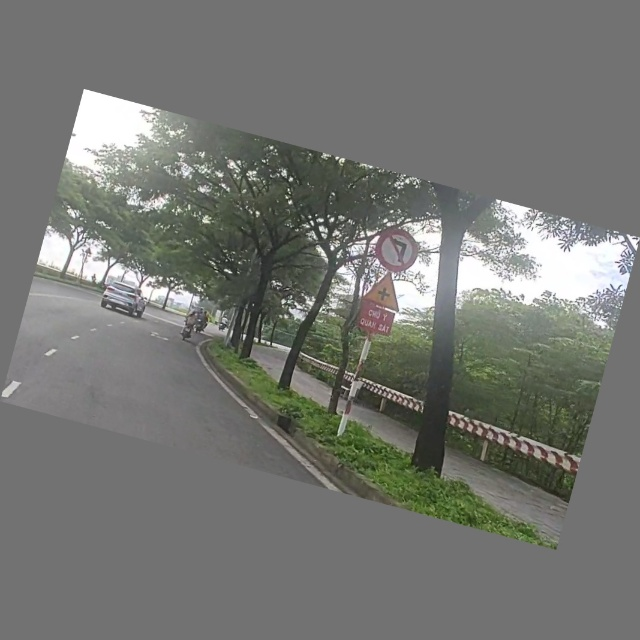P.123a: (370, 223, 428, 280)
W.205a: (360, 268, 410, 314)
